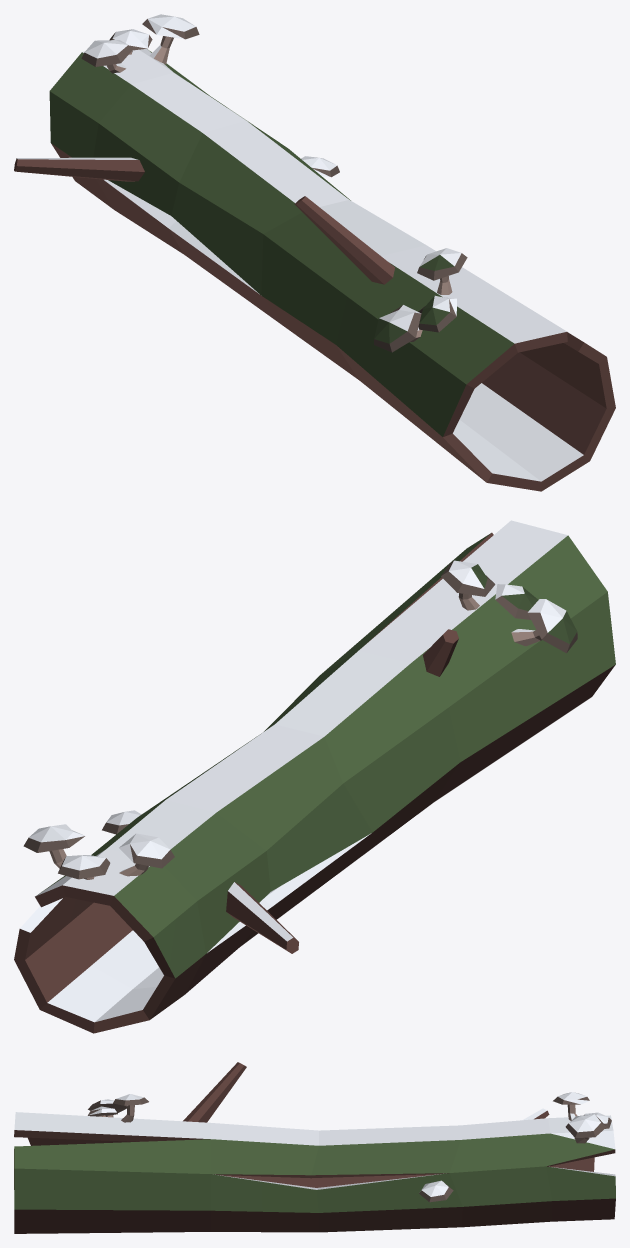
File: fallen-log.glb
3 renders of one model, top to bottom at view 1: azimuth 30°, elevation 25°; view 2: azimuth 150°, elevation 25°; view 3: azimuth 270°, elevation 25°, orthographic. The views are drawn at different scales.
Parts seen in each view (by area): view 1: fallen-log; view 2: fallen-log; view 3: fallen-log.
Part boxes in pixels (x1,y1,x2,y2): fallen-log: (14, 14, 615, 491); fallen-log: (14, 520, 615, 1033); fallen-log: (14, 1062, 615, 1233).
Size of the model in its own units: 0.8059 by 0.6186 by 2.4.
